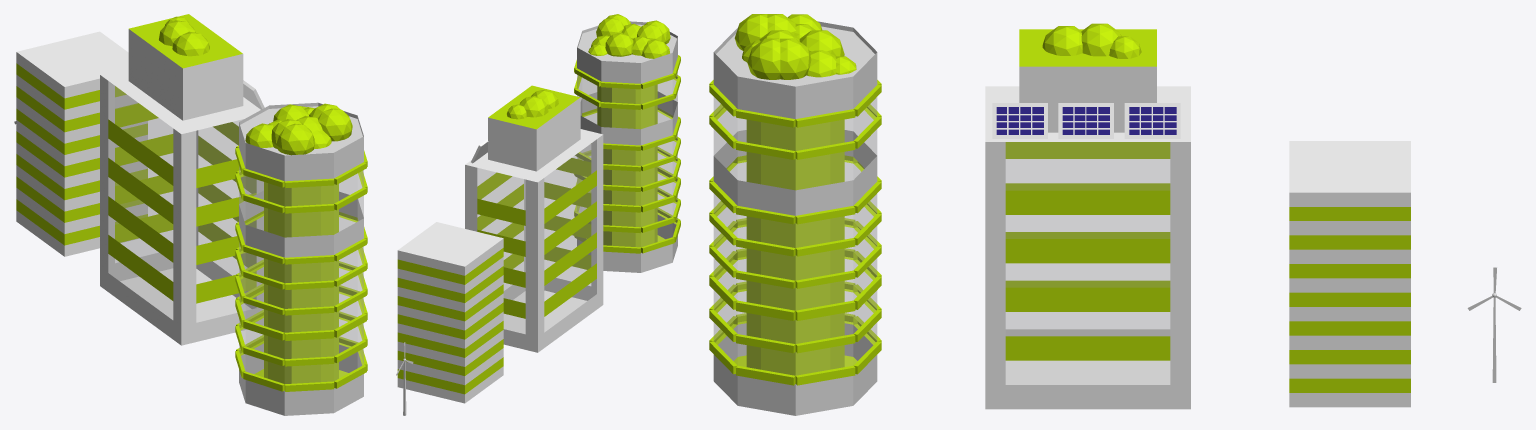
File: batiment2055ok.fbx
3 views of the same model, side by side, from view 1: azimuth 30°, elevation 25°; view 2: azimuth 150°, elevation 25°; view 3: azimuth 270°, elevation 25° (orthographic). The views are drawn at different scales.
Visible parts, largest first — view 1: Plane.001, Circle, Plane, Icosphere.008, Icosphere.009, Icosphere.005, Icosphere.012, Icosphere.010, Icosphere.001; view 2: Plane.001, Circle, Plane, Icosphere.001, Icosphere.012, Icosphere.010, Icosphere.006, Icosphere.004, Icosphere.005; view 3: Plane.001, Circle, Plane, Plane.002, Plane.003, Plane.004, Icosphere.009, Icosphere.006, Icosphere.005, Icosphere.012, Icosphere.008, Icosphere.001.
Part boxes in pixels (left/top/right/bottom): Plane.001: left=100, top=14, right=263, bottom=345; Circle: left=235, top=102, right=367, bottom=415; Plane: left=16, top=31, right=147, bottom=256; Icosphere.008: left=276, top=123, right=314, bottom=155; Icosphere.009: left=318, top=108, right=352, bottom=141; Icosphere.005: left=172, top=31, right=209, bottom=56; Icosphere.012: left=159, top=20, right=195, bottom=46; Icosphere.010: left=245, top=123, right=273, bottom=147; Icosphere.001: left=273, top=104, right=308, bottom=121; Plane.001: left=465, top=85, right=603, bottom=352; Circle: left=574, top=21, right=680, bottom=272; Plane: left=397, top=222, right=503, bottom=403; Icosphere.001: left=605, top=33, right=633, bottom=56; Icosphere.012: left=519, top=96, right=548, bottom=117; Icosphere.010: left=641, top=39, right=669, bottom=58; Icosphere.006: left=596, top=18, right=624, bottom=37; Icosphere.004: left=637, top=24, right=665, bottom=42; Icosphere.005: left=531, top=89, right=558, bottom=108; Plane.001: left=985, top=29, right=1190, bottom=409; Circle: left=709, top=21, right=881, bottom=415; Plane: left=1289, top=141, right=1410, bottom=407; Plane.002: left=1124, top=103, right=1180, bottom=138; Plane.003: left=1058, top=103, right=1113, bottom=138; Plane.004: left=992, top=103, right=1047, bottom=138; Icosphere.009: left=747, top=38, right=780, bottom=79; Icosphere.006: left=780, top=38, right=811, bottom=79; Icosphere.005: left=1042, top=26, right=1082, bottom=55; Icosphere.012: left=1081, top=23, right=1121, bottom=56; Icosphere.008: left=734, top=14, right=767, bottom=50; Icosphere.001: left=799, top=30, right=844, bottom=56.
Size of the model in its own units: 28670 by 65406 by 135099.
